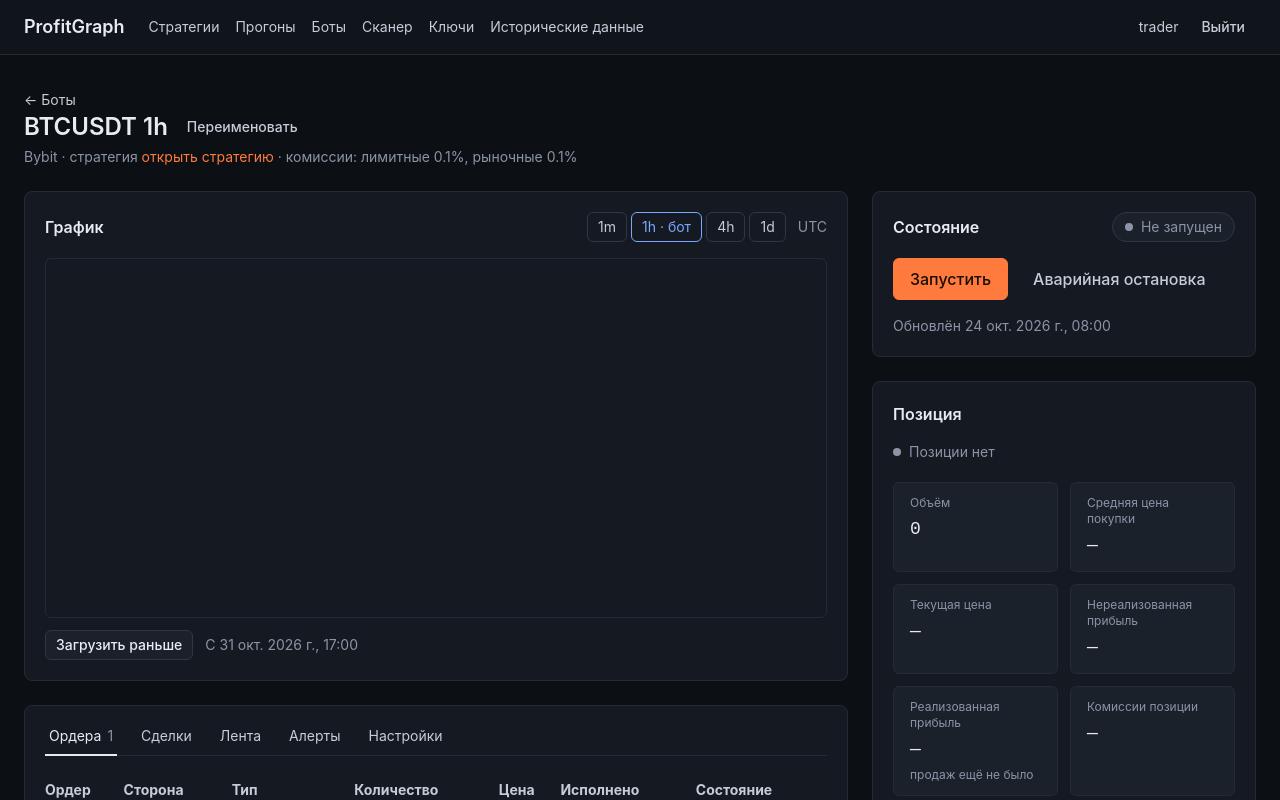
bot chart › switches to another timeframe of the venue with the fills on its candles and no forming candle
Click the link "4h" at {"x": 726, "y": 227}, box [706,212,745,242]
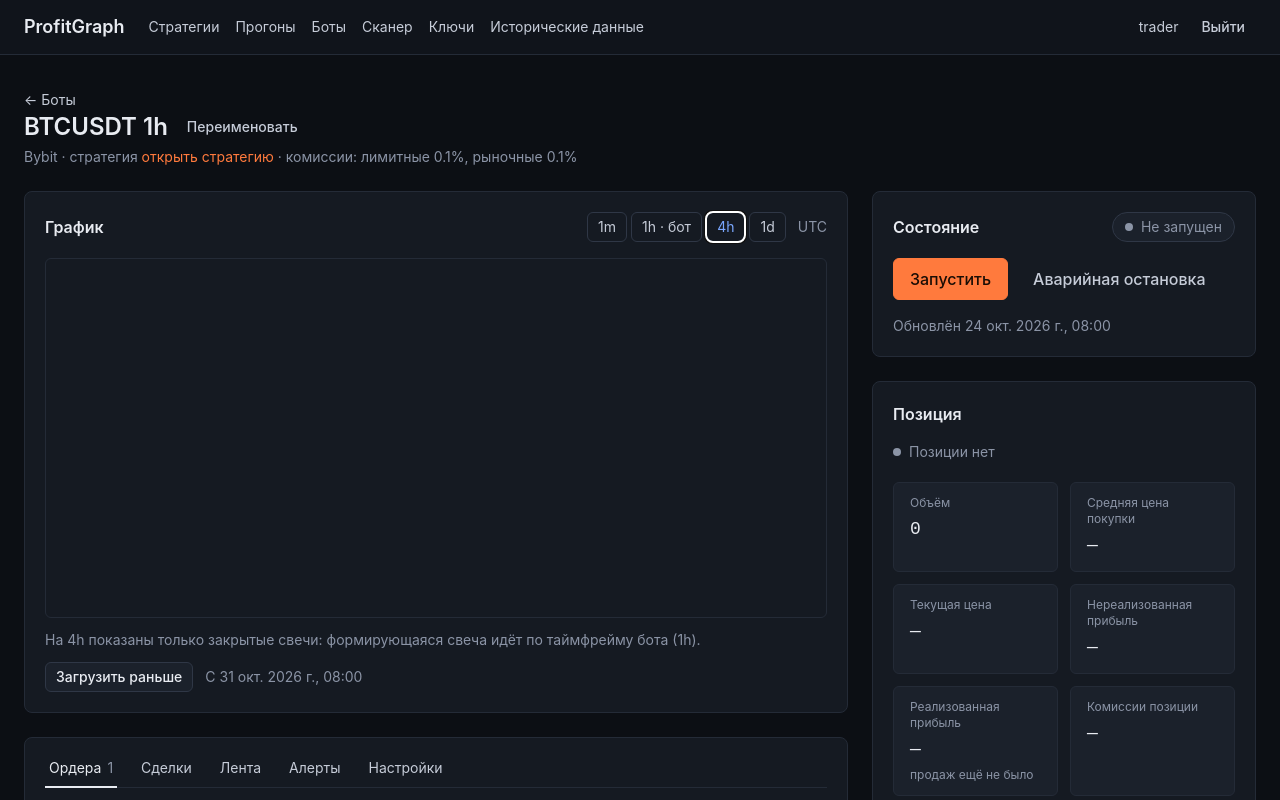
Expected: the text "На 4h показаны только закрытые свечи" is shown, [45,631,701,648]
